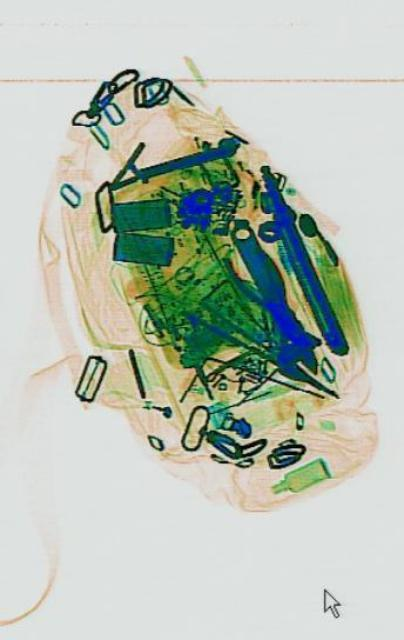Pliers: (178, 288, 340, 408), (218, 220, 309, 360)
Wrench: (217, 206, 320, 394)
